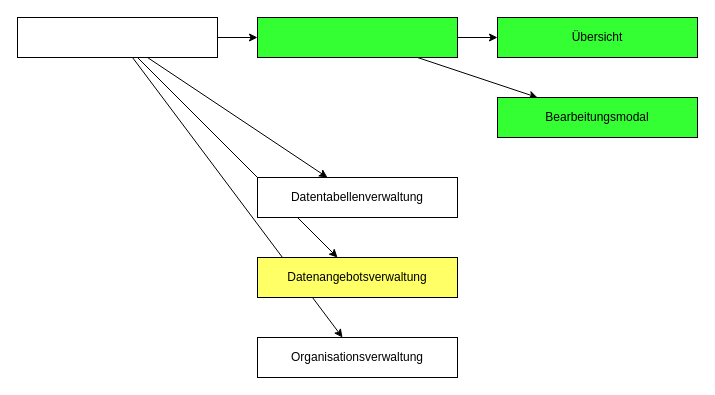
The diagram is 715 pixels wide and 395 high, and some of its shapes have lost their labels. Each missing label, with the centre of its shape:
Datenquellenverwaltung: point (357, 37)
Mobidrom -Anwenderhandbuch: point (117, 37)
